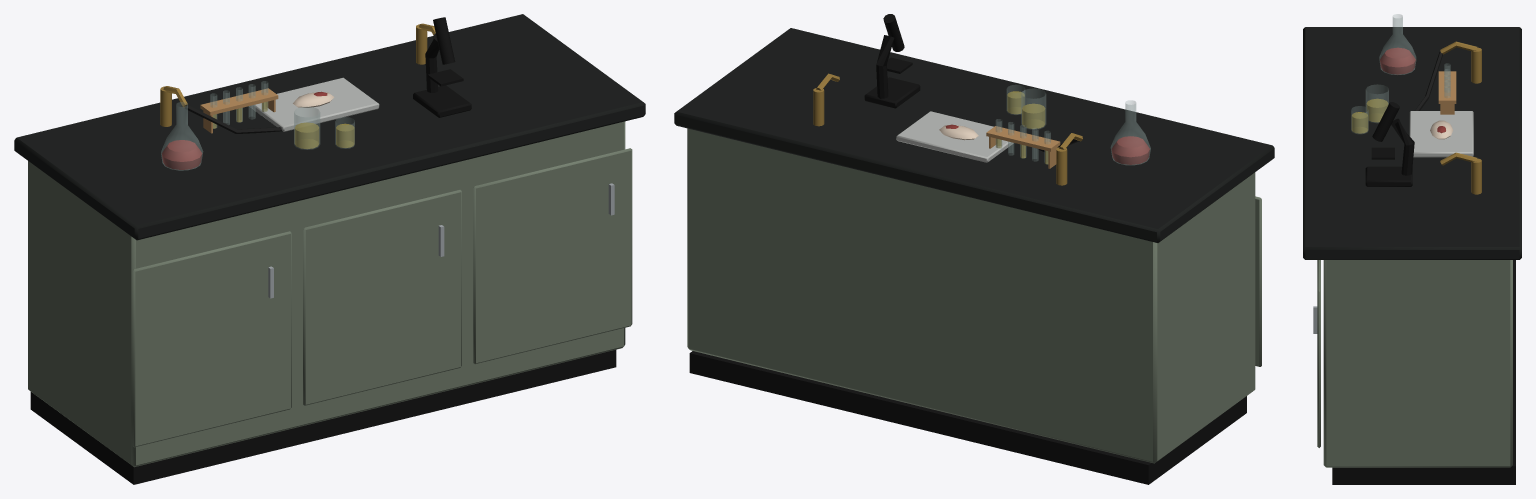
The model's file is lab_bench.glb.
3 views of the same model, side by side, from view 1: azimuth 30°, elevation 25°; view 2: azimuth 150°, elevation 25°; view 3: azimuth 270°, elevation 25° (orthographic). The views are drawn at different scales.
Parts seen in each view (by area): view 1: LabBench; view 2: LabBench; view 3: LabBench.
Boxes of the visible parts, x1=… form: LabBench: x1=14, y1=14, x2=645, y2=484; LabBench: x1=674, y1=14, x2=1274, y2=484; LabBench: x1=1303, y1=14, x2=1521, y2=484.
Size of the model in its own units: 1.8 by 1.21 by 0.75.
